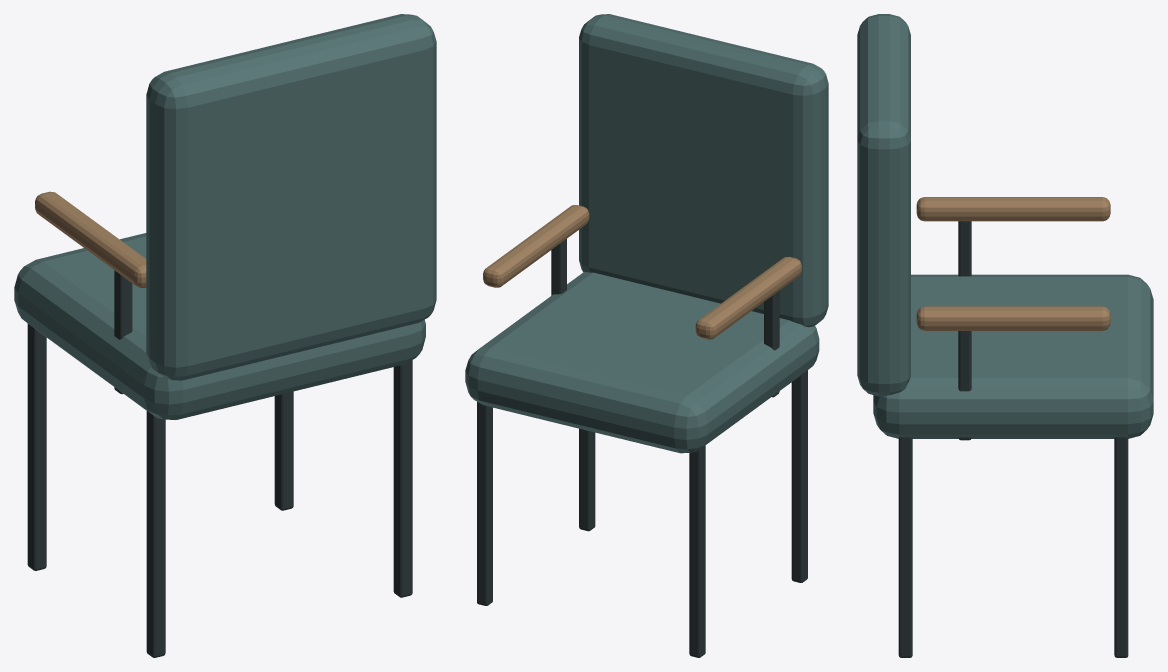
The model's file is meeting-chair.glb.
3 renders of one model, left to right at view 1: azimuth 30°, elevation 25°; view 2: azimuth 150°, elevation 25°; view 3: azimuth 270°, elevation 25°, orthographic. The views are drawn at different scales.
Parts seen in each view (by area): view 1: COMMONS_StaticMaterialGroups; view 2: COMMONS_StaticMaterialGroups; view 3: COMMONS_StaticMaterialGroups.
Part boxes in pixels (x1,y1,x2,y2): COMMONS_StaticMaterialGroups: (14, 14, 436, 657); COMMONS_StaticMaterialGroups: (465, 14, 828, 657); COMMONS_StaticMaterialGroups: (857, 14, 1153, 657).
Size of the model in its own units: 0.54 by 1.09 by 0.55.
